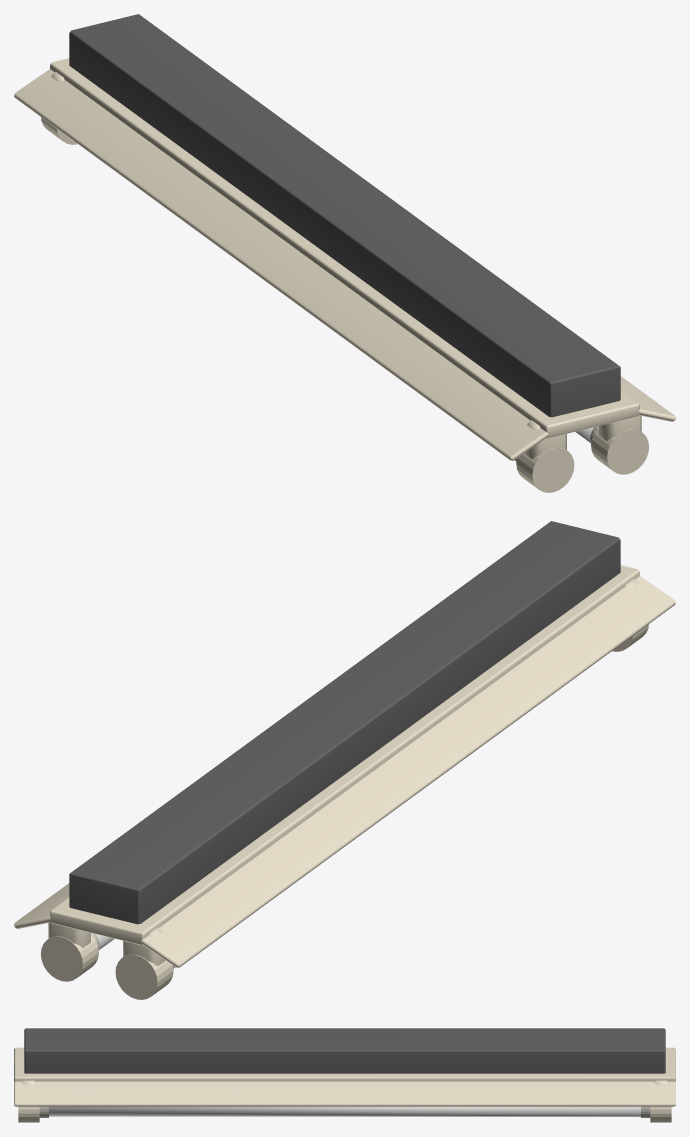
File: TwinTubeLight.fbx
3 renders of one model, top to bottom at view 1: azimuth 30°, elevation 25°; view 2: azimuth 150°, elevation 25°; view 3: azimuth 270°, elevation 25°, orthographic. The views are drawn at different scales.
Parts seen in each view (by area): view 1: Graphite enamel, Warm plaster; view 2: Graphite enamel, Warm plaster; view 3: Graphite enamel, Warm plaster, Tube phosphor, Brushed nickel.
Boxes of the visible parts, left/top/right/bottom form: Graphite enamel: left=69, top=14, right=620, bottom=417; Warm plaster: left=14, top=58, right=675, bottom=492; Graphite enamel: left=69, top=521, right=620, bottom=924; Warm plaster: left=14, top=565, right=675, bottom=999; Graphite enamel: left=24, top=1028, right=665, bottom=1073; Warm plaster: left=14, top=1047, right=675, bottom=1122; Tube phosphor: left=49, top=1106, right=640, bottom=1116; Brushed nickel: left=39, top=1106, right=650, bottom=1117.
Bounding box in the file's own units: 24.52 × 14.85 × 127.
